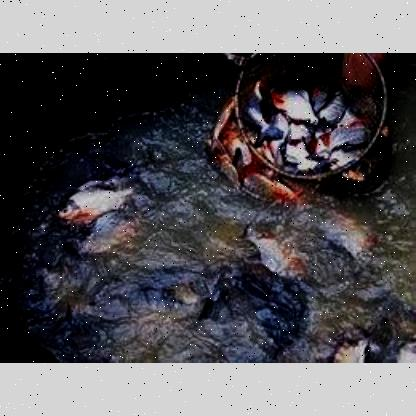ikan-pacu: (244, 223, 306, 277), (56, 183, 134, 217)
